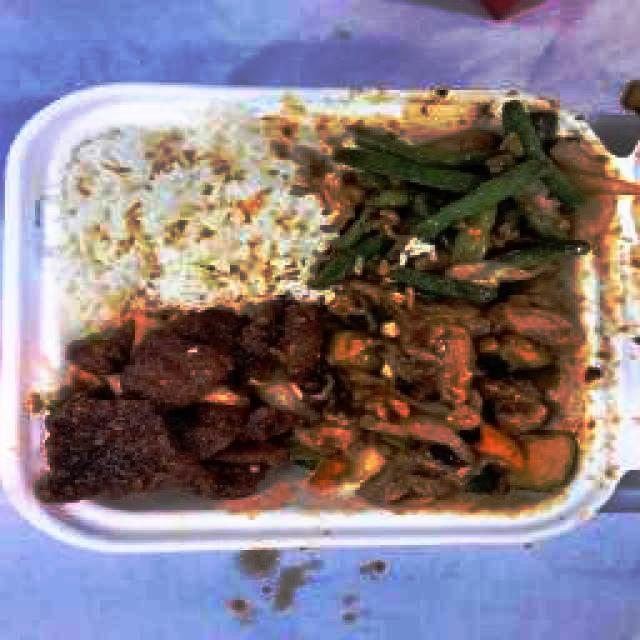Beijing Beef: (50, 305, 314, 504)
Kung Pao Chicken: (330, 312, 577, 491)
String Bean Chicken Breast: (333, 102, 583, 303)
rice: (63, 140, 320, 291)
